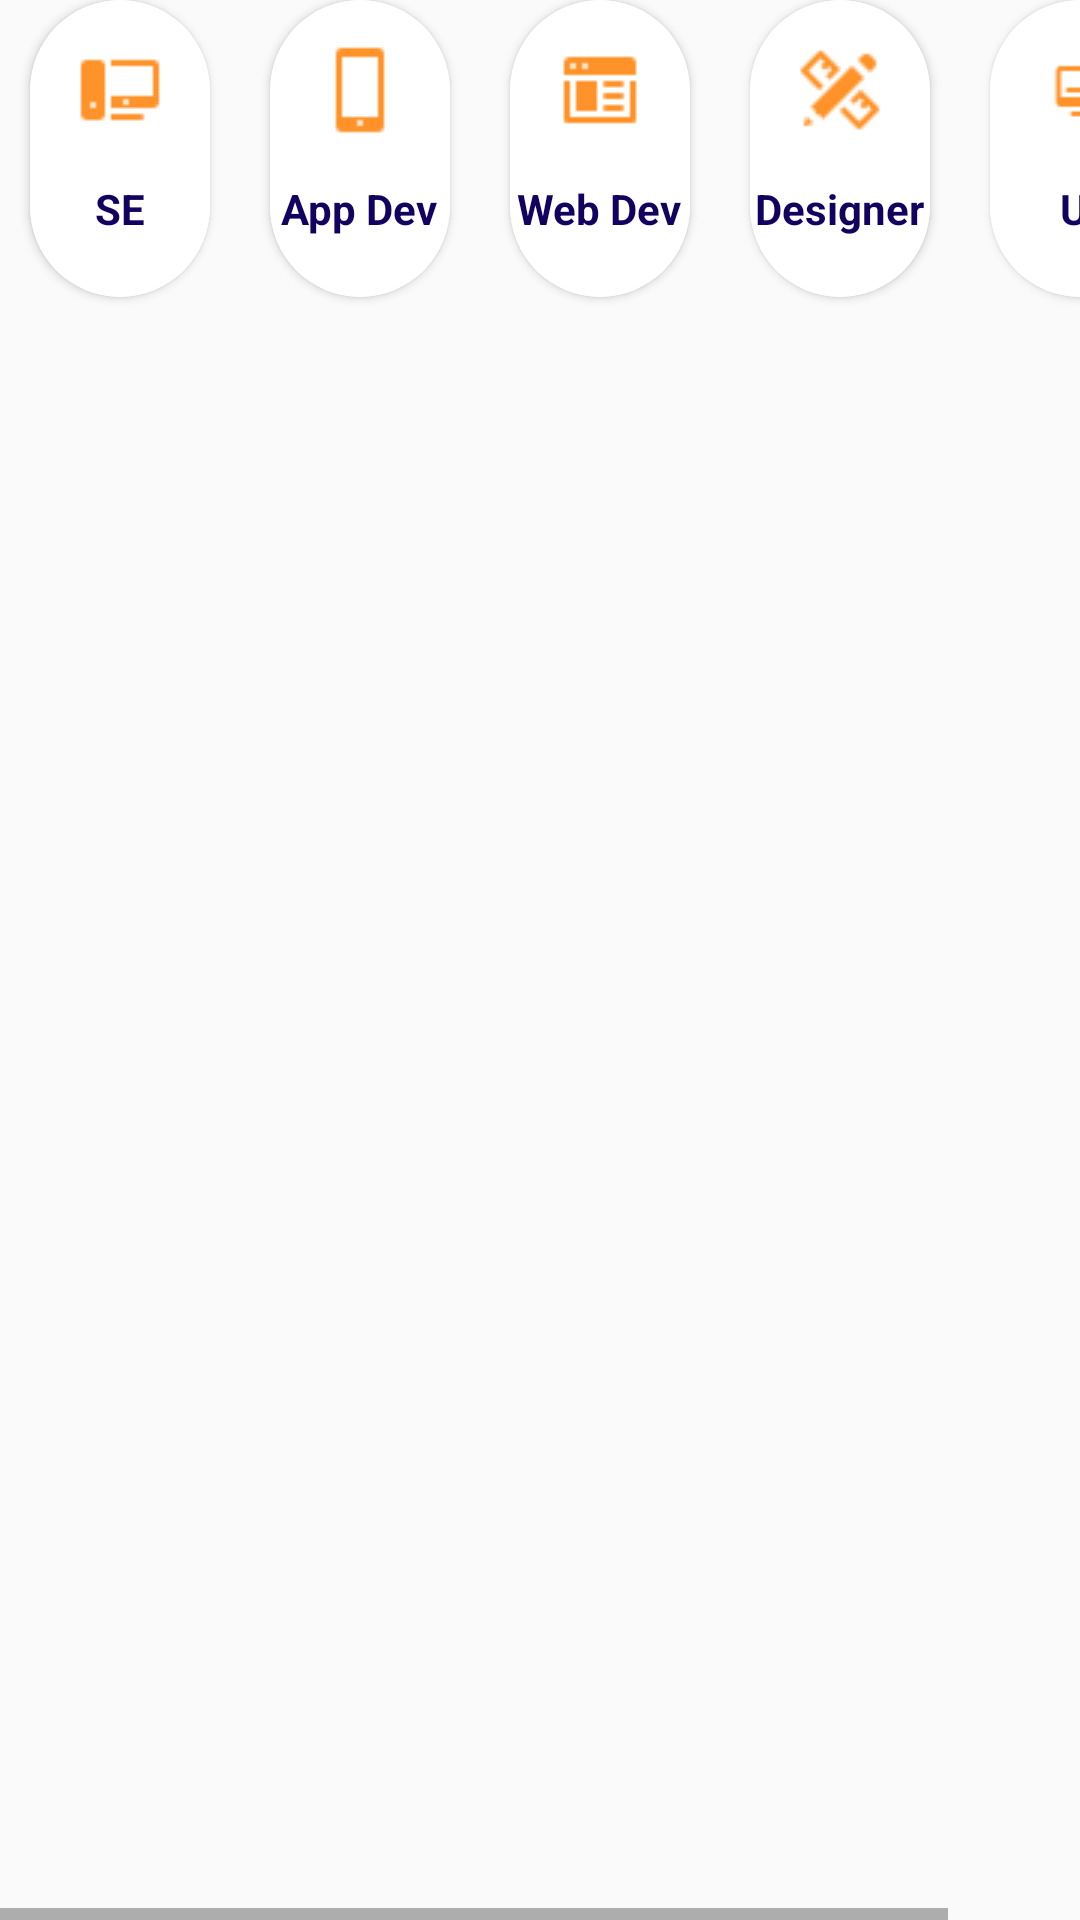

Icon bounding boxes for this 1080*1920 phone screenshot, format (x1, y1, x2, y2):
web design: (563, 56, 637, 124)
workstation: (80, 59, 160, 121)
